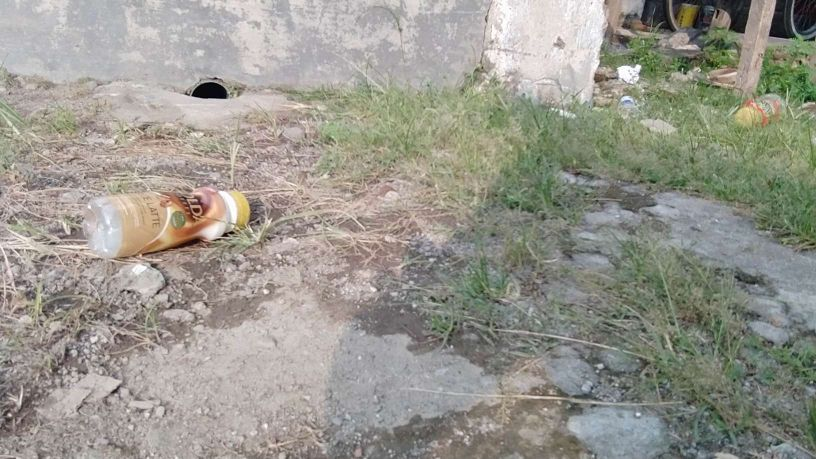botol: (68, 145, 259, 265)
